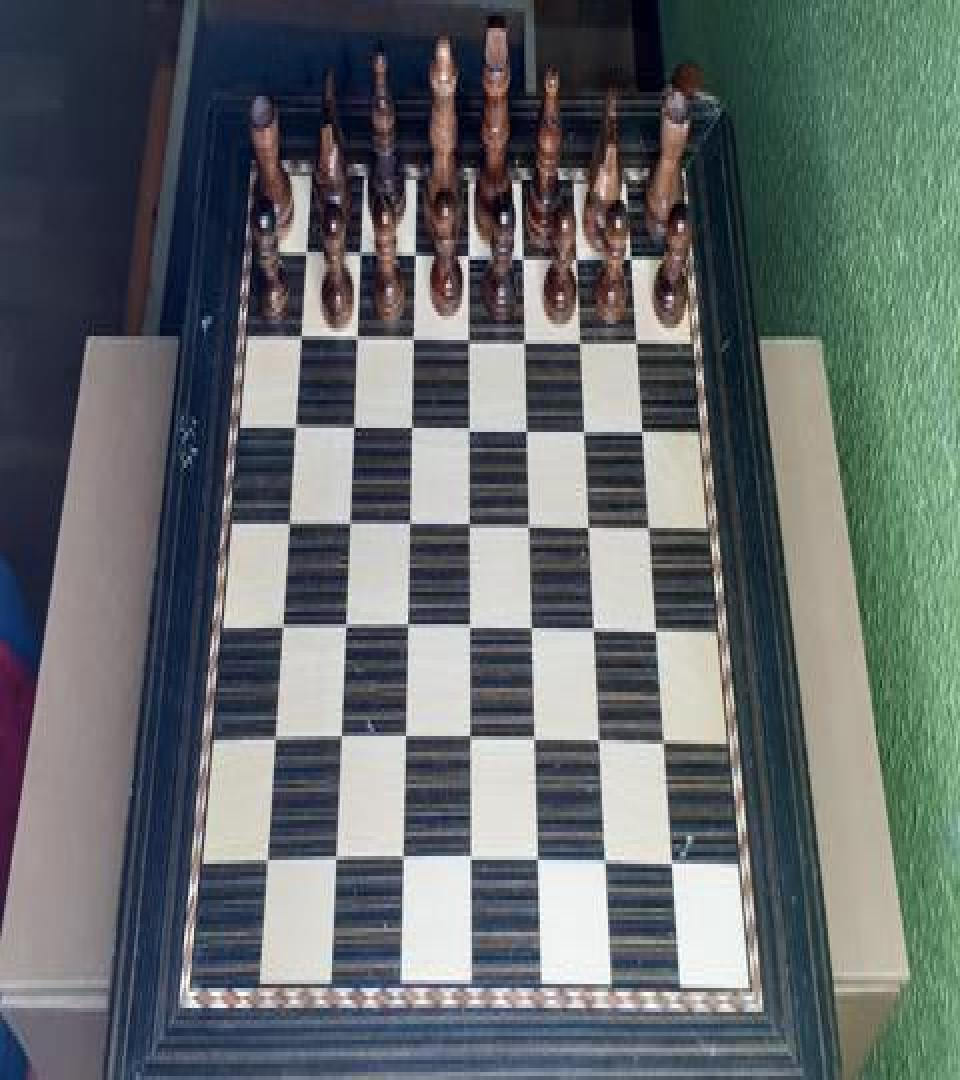xcorner: (294, 228, 312, 264), (289, 314, 307, 350), (283, 406, 301, 442), (277, 506, 295, 542), (271, 612, 289, 648), (263, 726, 281, 762), (256, 848, 274, 884), (350, 230, 368, 266), (347, 316, 365, 352), (343, 408, 361, 444), (339, 506, 357, 542), (335, 612, 353, 648), (330, 726, 348, 762), (325, 848, 343, 884), (406, 232, 424, 268), (405, 316, 423, 352), (403, 408, 421, 444), (401, 506, 419, 542), (399, 612, 417, 648), (397, 726, 415, 762), (395, 850, 413, 886), (462, 232, 480, 268), (462, 318, 480, 354), (462, 410, 480, 446), (463, 508, 481, 544), (463, 614, 481, 650), (463, 726, 481, 762), (464, 850, 482, 886), (517, 234, 535, 270), (519, 318, 537, 354), (522, 410, 540, 446), (524, 508, 542, 544), (527, 614, 545, 650), (529, 728, 547, 764), (532, 850, 550, 886), (572, 234, 590, 270), (576, 320, 594, 356), (581, 412, 599, 448), (585, 510, 603, 546), (590, 614, 608, 650), (595, 728, 613, 764), (601, 850, 619, 886), (628, 236, 646, 272), (633, 320, 651, 356), (639, 412, 657, 448), (646, 510, 664, 546), (653, 614, 671, 650), (661, 728, 679, 764), (669, 850, 687, 886)
